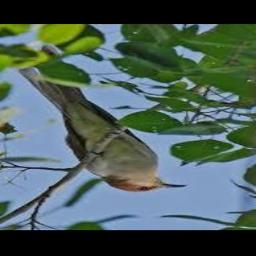Cuckoo: (16, 47, 187, 192)
